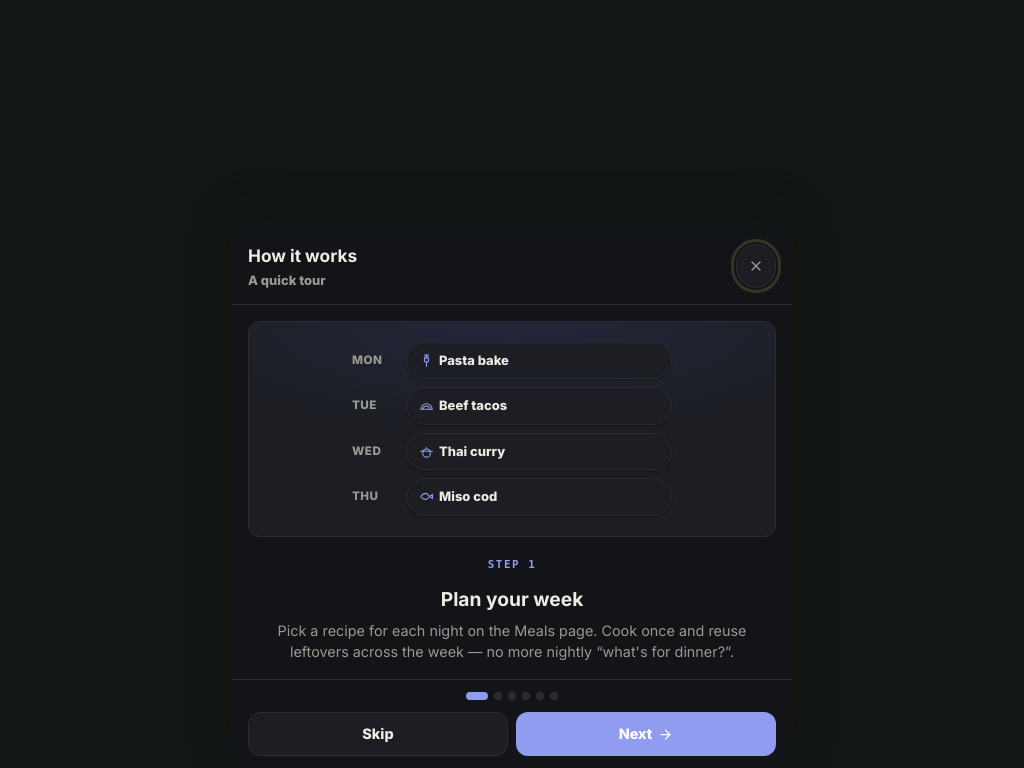
Test: WalkthroughSheet › advances through the steps with Next
Click the button "Next".
click(646, 734)  # box top-left (516, 712), bottom-right (776, 756)
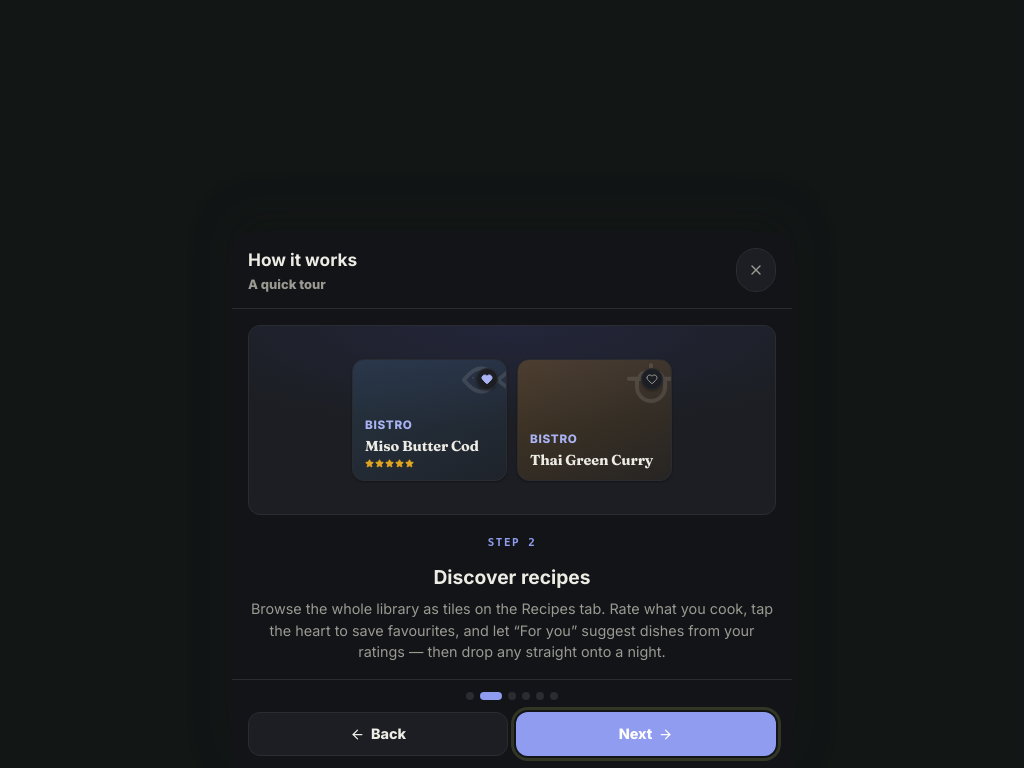
Expected: the heading "Discover recipes" is shown, top-left (434, 565), bottom-right (590, 589)
